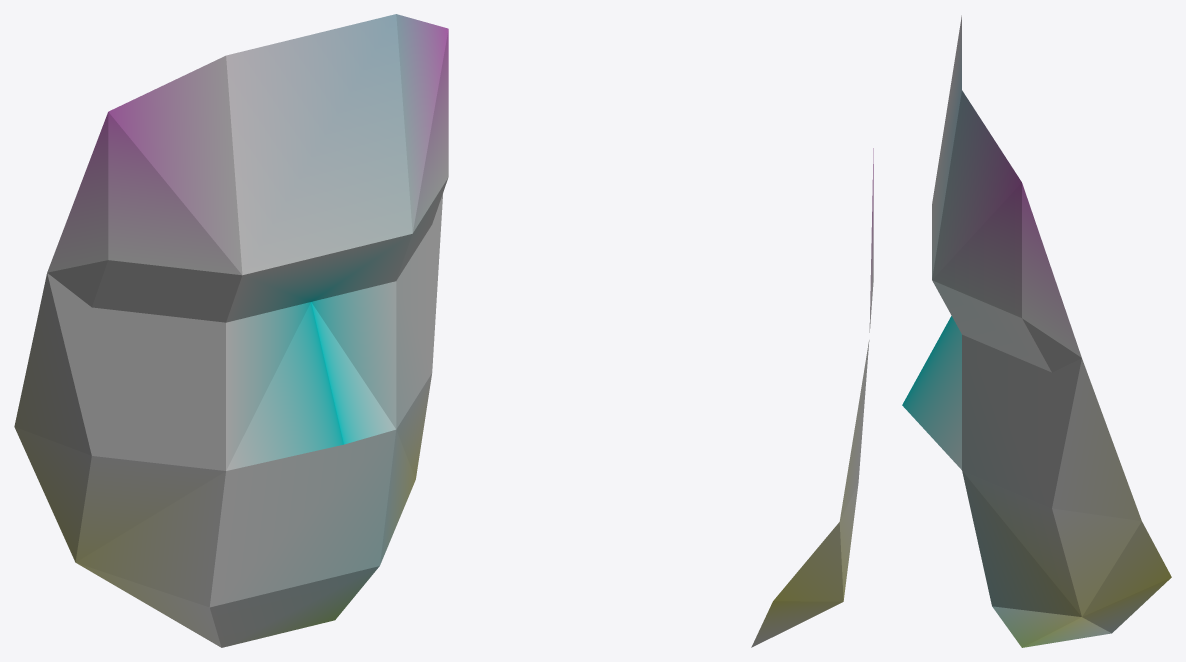
3 renders of one model, left to right at view 1: azimuth 30°, elevation 25°; view 2: azimuth 150°, elevation 25°; view 3: azimuth 270°, elevation 25°, orthographic. The views are drawn at different scales.
Parts seen in each view (by area): view 1: model_142C; view 2: model_142C; view 3: model_142C.
Boxes of the visible parts, x1=… form: model_142C: x1=14, y1=14, x2=448, y2=647; model_142C: x1=751, y1=148, x2=873, y2=647; model_142C: x1=902, y1=15, x2=1171, y2=647.
Size of the model in its own units: 14 by 21 by 9.
